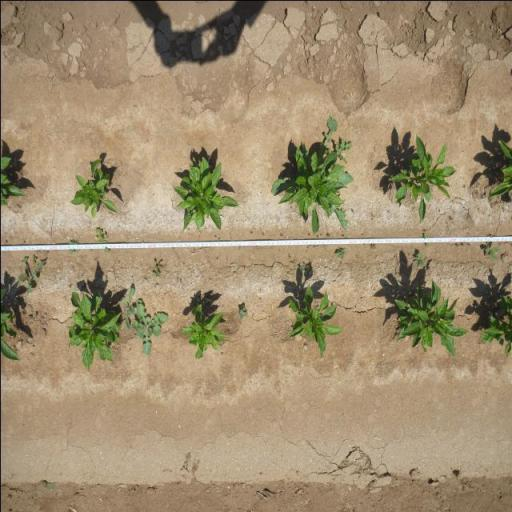plant: (388, 132, 458, 224), (390, 276, 468, 358), (170, 151, 240, 232), (286, 146, 347, 235), (284, 281, 346, 358), (66, 290, 120, 372), (71, 155, 121, 220), (181, 304, 230, 360), (480, 290, 512, 356), (0, 153, 28, 212), (488, 138, 512, 202), (0, 308, 21, 362)
weed: (133, 303, 167, 359), (14, 254, 46, 295), (120, 285, 136, 331), (335, 137, 356, 162), (482, 240, 501, 262), (150, 256, 164, 278), (91, 226, 107, 244), (412, 250, 426, 266), (67, 237, 80, 254), (237, 305, 248, 320), (335, 247, 345, 260), (298, 263, 311, 272), (474, 302, 482, 313), (31, 254, 37, 264), (368, 244, 376, 250), (104, 247, 110, 254), (422, 232, 426, 238), (424, 243, 428, 246)
